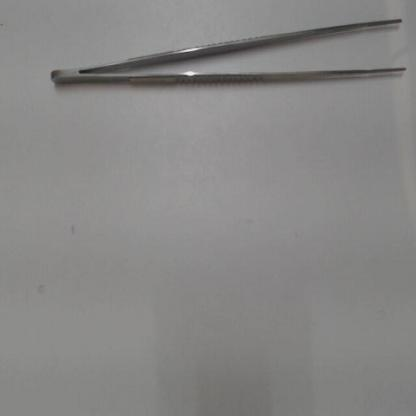DeBakey Dissector: (36, 5, 413, 103)
